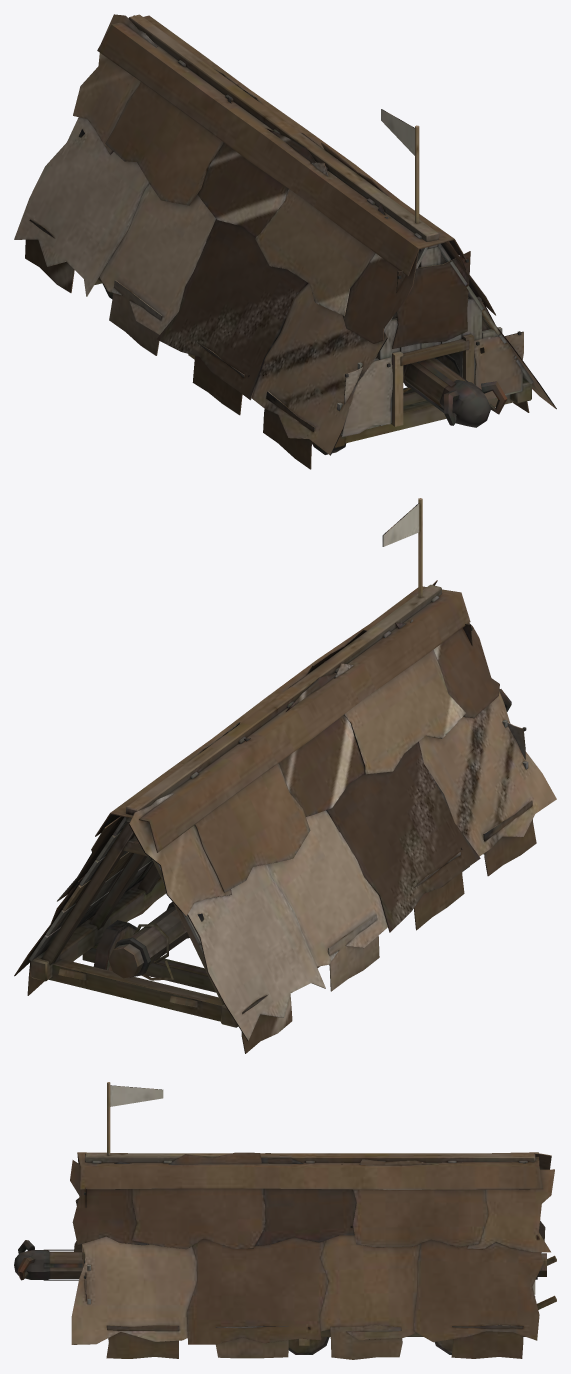
Rendered from ram.glb.
The picture shows the model from 3 angles, top to bottom: view 1: azimuth 30°, elevation 25°; view 2: azimuth 150°, elevation 25°; view 3: azimuth 270°, elevation 25°; orthographic projection. The views are drawn at different scales.
Parts seen in each view (by area): view 1: body_LOD0, ram; view 2: body_LOD0, ram, wheel_lb; view 3: body_LOD0, ram, wheel_lm.
Boxes of the visible parts, left/top/right/bottom form: body_LOD0: left=14, top=14, right=556, bottom=469; ram: left=377, top=317, right=507, bottom=427; body_LOD0: left=14, top=498, right=556, bottom=1053; ram: left=108, top=689, right=511, bottom=980; wheel_lb: left=93, top=920, right=136, bottom=971; body_LOD0: left=70, top=1082, right=556, bottom=1359; ram: left=14, top=1240, right=546, bottom=1280; wheel_lm: left=288, top=1337, right=329, bottom=1354.
Size of what is drawn, in the model's own units: 3.45 by 4.59 by 9.17.
Materials: 2 (2 with a texture image).
